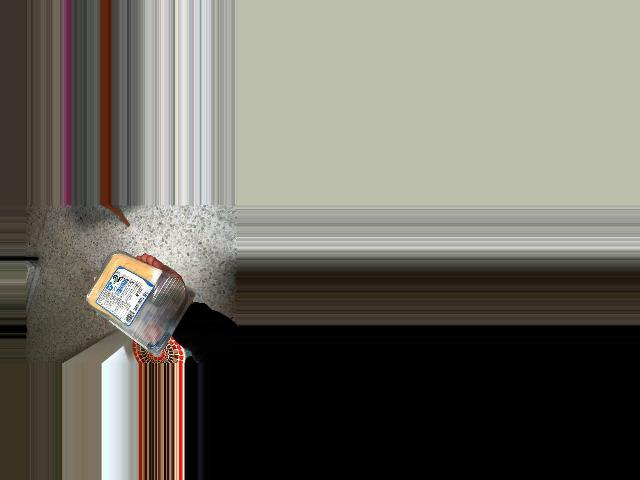cheese: (81, 264, 180, 347)
